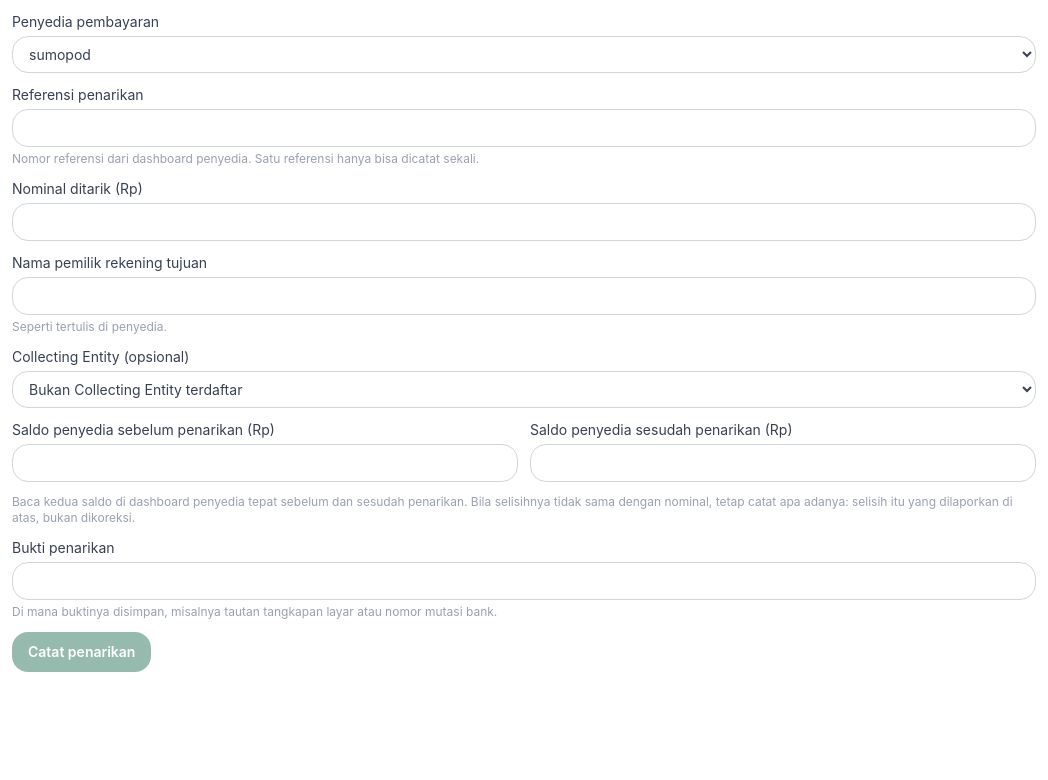
Test: AdminProviderWithdrawalForm › posts a sweep with rupiah amounts as whole numbers and the chosen Collecting Entity
The width and height of the screenshot is (1048, 780).
Type " WD-001 " into the field labelled "Referensi penarikan".
click(524, 128); type(" WD-001 ")  # box top-left (12, 109), bottom-right (1036, 147)
Type "1.000.000" into the field labelled "Nominal ditarik (Rp)".
click(524, 222); type("1.000.000")  # box top-left (12, 203), bottom-right (1036, 241)
Type "YAY GENERASI JAYA INDO" into the field labelled "Nama pemilik rekening tujuan Seperti tertulis di penyedia.".
click(524, 296); type("YAY GENERASI JAYA INDO")  # box top-left (12, 277), bottom-right (1036, 315)
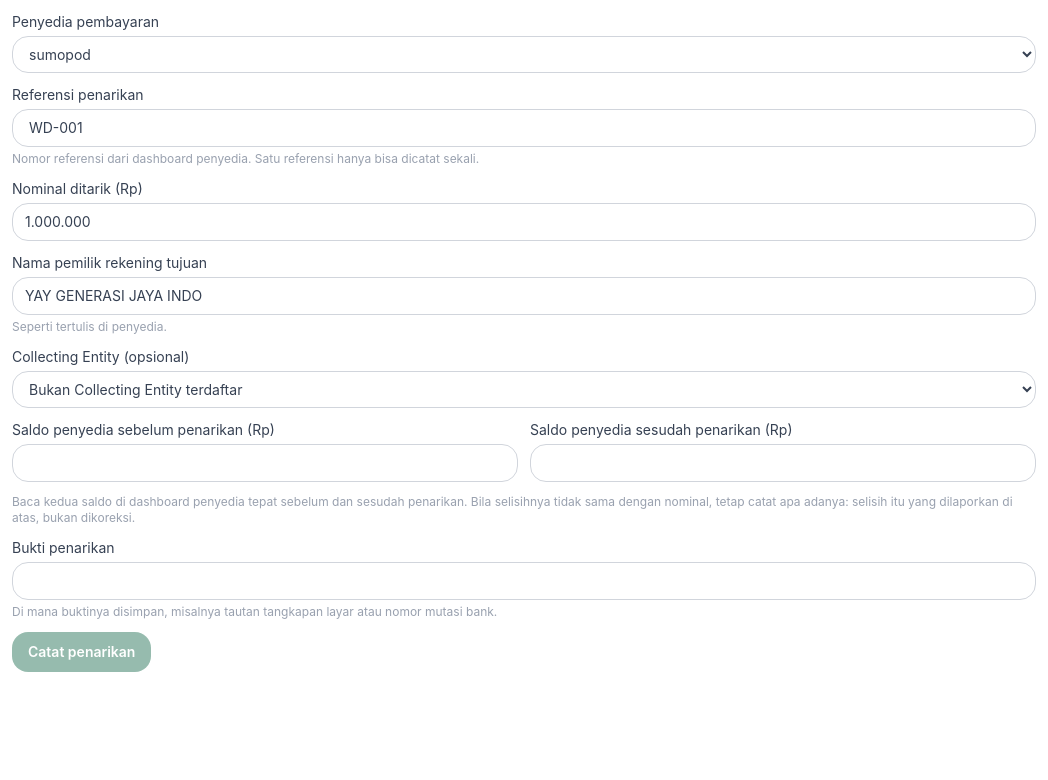
Type "1500000" into the field labelled "Saldo penyedia sebelum penarikan (Rp)".
click(265, 463); type("1500000")  # box top-left (12, 444), bottom-right (518, 482)
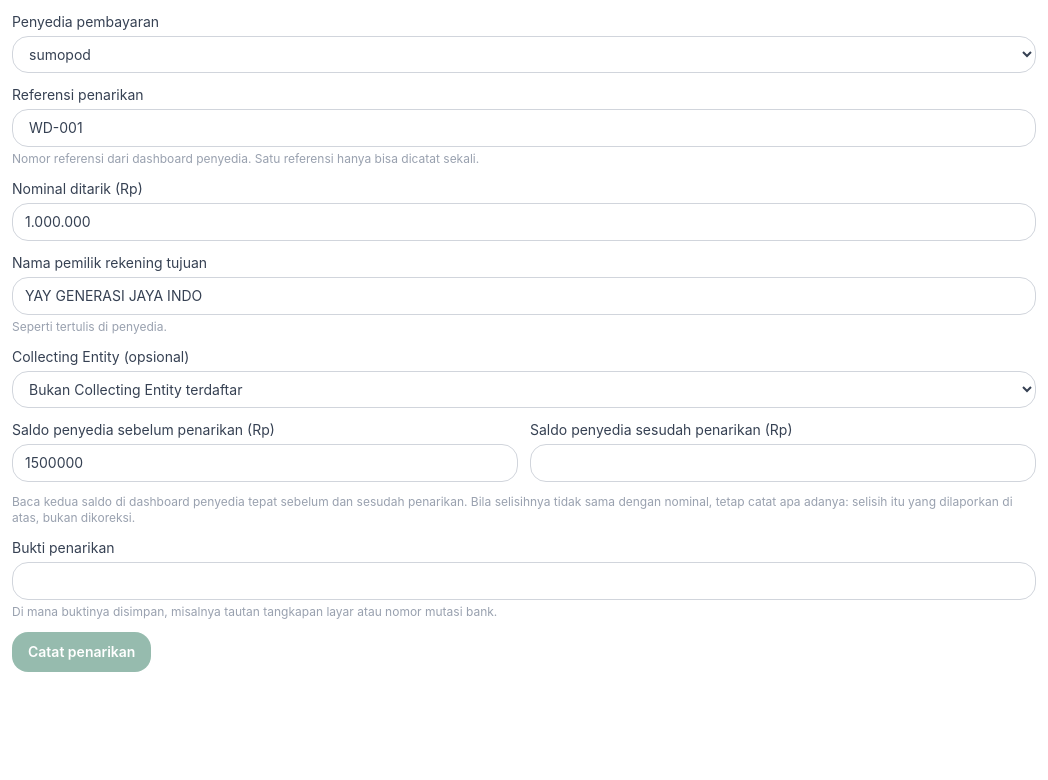
Type "500000" into the field labelled "Saldo penyedia sesudah penarikan (Rp)".
click(783, 463); type("500000")  # box top-left (530, 444), bottom-right (1036, 482)
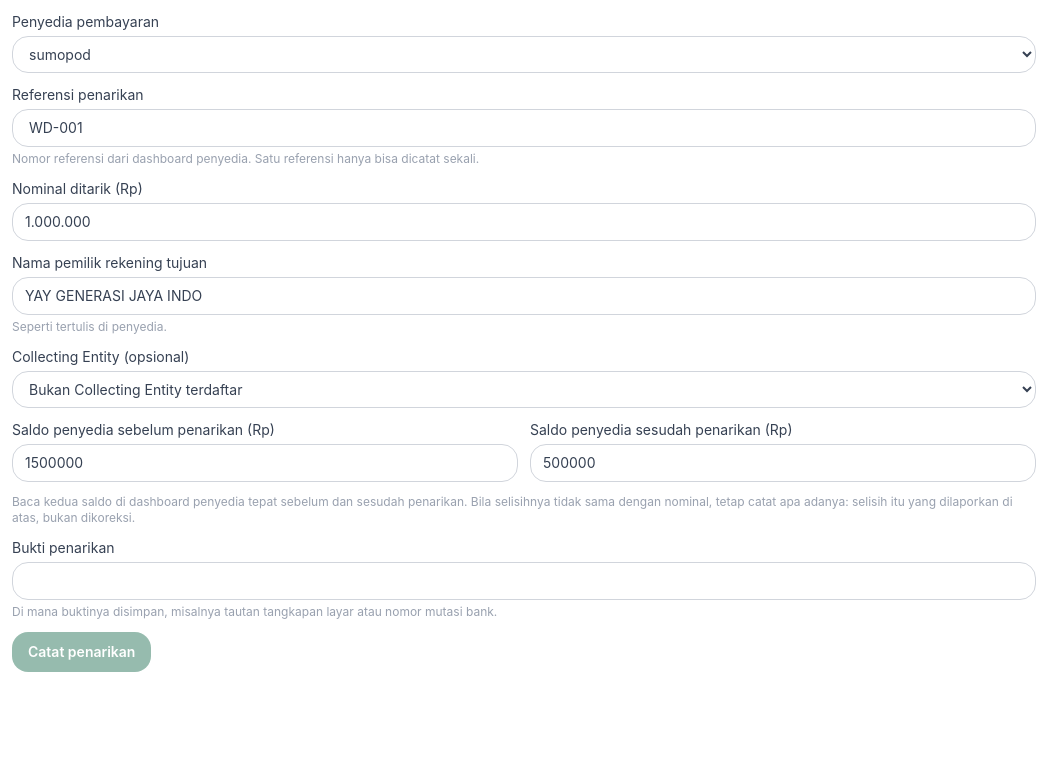
Type "Tangkapan layar dashboard 29/10" into the field labelled "Bukti penarikan".
click(524, 581); type("Tangkapan layar dashboard 29/10")  # box top-left (12, 562), bottom-right (1036, 600)
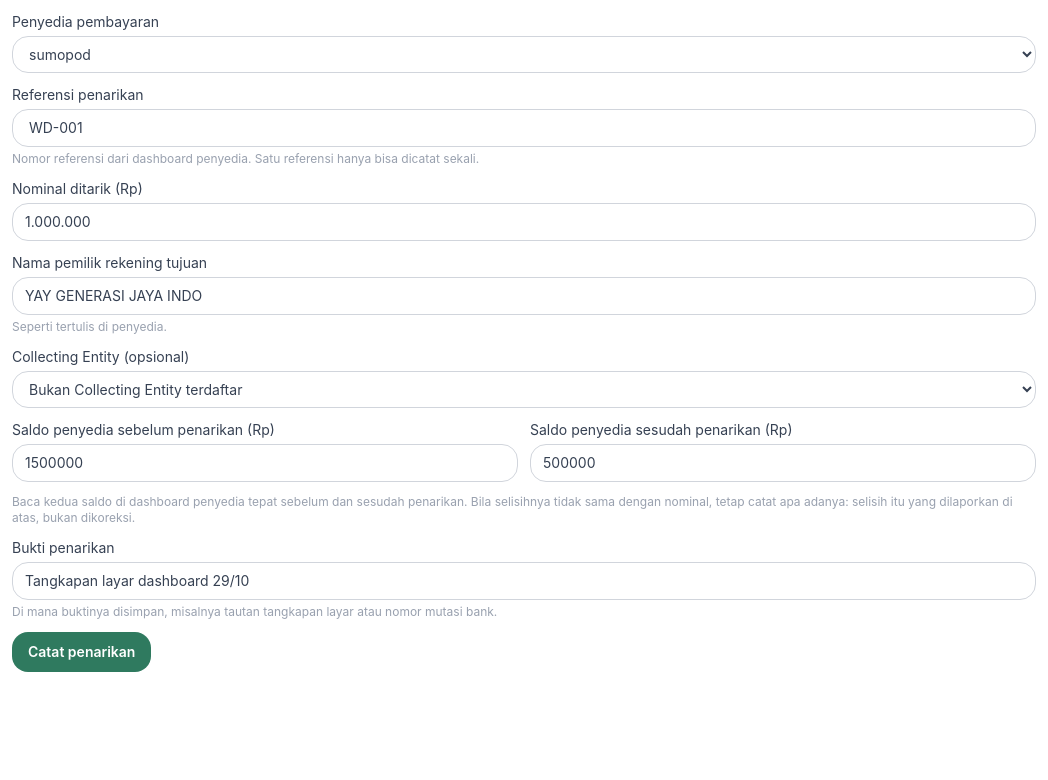
Select "Yayasan Indonesia Emas" in the dropdown labelled "Collecting Entity (opsional)" at (524,390), box top-left (12, 371), bottom-right (1036, 408)
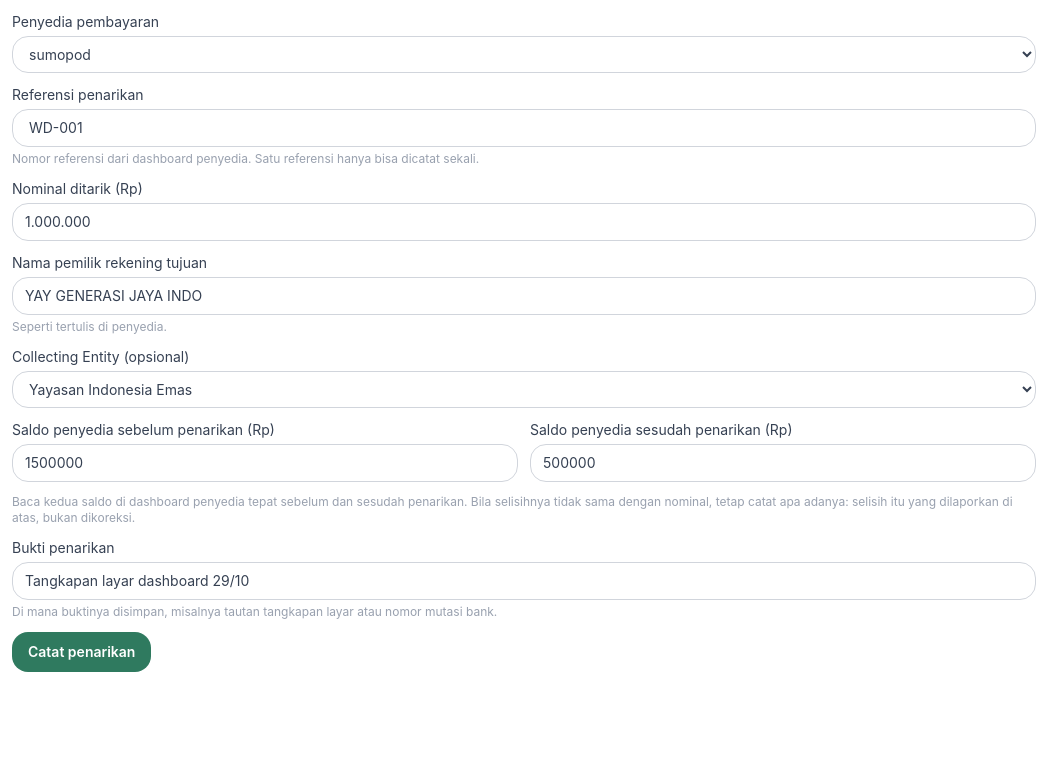
Click the button "Catat penarikan".
click(82, 652)  # box top-left (12, 632), bottom-right (151, 672)
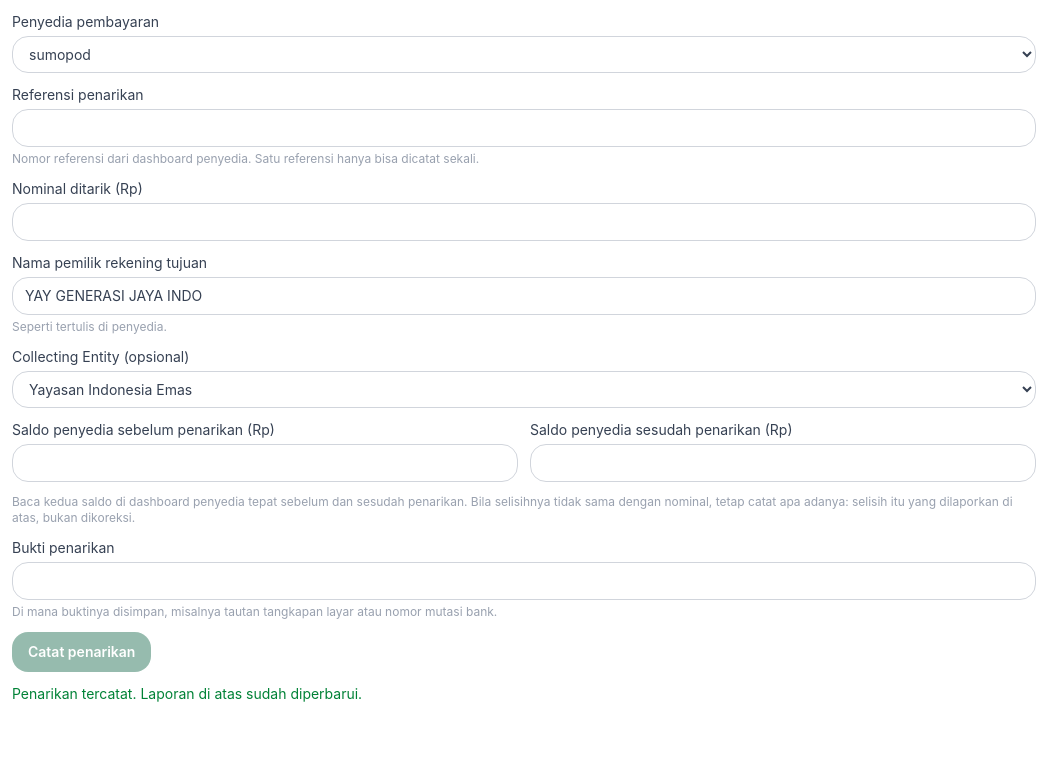
Check: the message shows "tercatat", box top-left (12, 685), bottom-right (362, 702)
